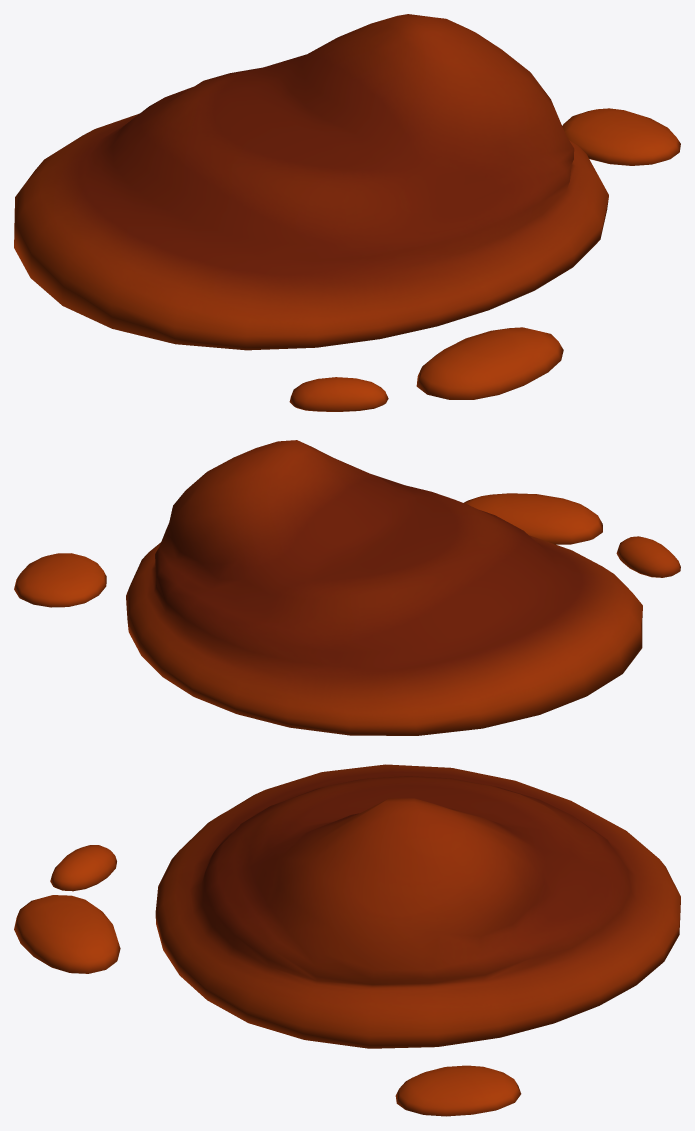
The model's file is Mess_Ketchup.fbx.
3 renders of one model, top to bottom at view 1: azimuth 30°, elevation 25°; view 2: azimuth 150°, elevation 25°; view 3: azimuth 270°, elevation 25°, orthographic. The views are drawn at different scales.
Visible parts, largest first — view 1: Mess_Ketchup; view 2: Mess_Ketchup; view 3: Mess_Ketchup.
Part boxes in pixels (bbox=[...]): Mess_Ketchup: bbox=[14, 14, 680, 411]; Mess_Ketchup: bbox=[14, 440, 680, 735]; Mess_Ketchup: bbox=[14, 764, 680, 1116].
Bounding box in the file's own units: 45.06 × 13.02 × 41.87.
